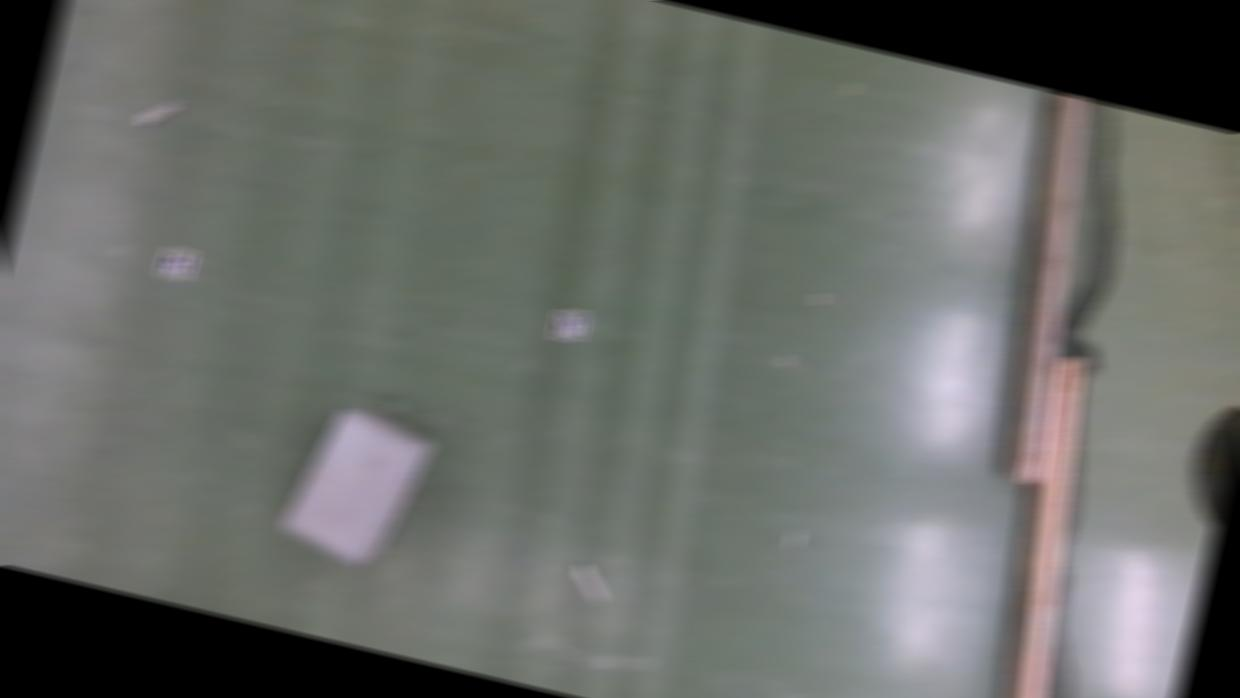probes: (137, 94, 182, 134), (570, 564, 612, 606)
rako: (274, 400, 438, 580)
